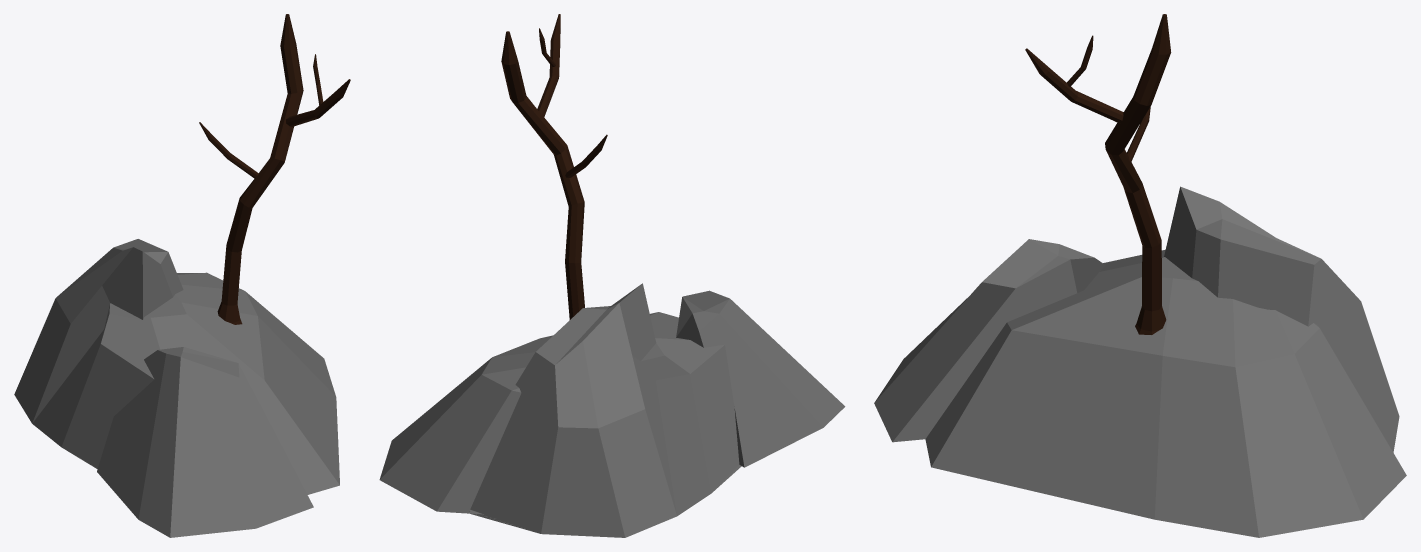
File: Rock_Tree_1.fbx
3 views of the same model, side by side, from view 1: azimuth 30°, elevation 25°; view 2: azimuth 150°, elevation 25°; view 3: azimuth 270°, elevation 25° (orthographic). The views are drawn at different scales.
Parts seen in each view (by area): view 1: Cylinder.001, Cylinder.002; view 2: Cylinder.001, Cylinder.002; view 3: Cylinder.001, Cylinder.002.
Boxes of the visible parts, x1=… form: Cylinder.001: x1=14, y1=239, x2=339, y2=537; Cylinder.002: x1=199, y1=14, x2=350, y2=324; Cylinder.001: x1=379, y1=283, x2=845, y2=537; Cylinder.002: x1=501, y1=14, x2=607, y2=320; Cylinder.001: x1=874, y1=186, x2=1406, y2=537; Cylinder.002: x1=1025, y1=14, x2=1171, y2=334.
Bounding box in the file's own units: 1392 × 1707 × 1723.
